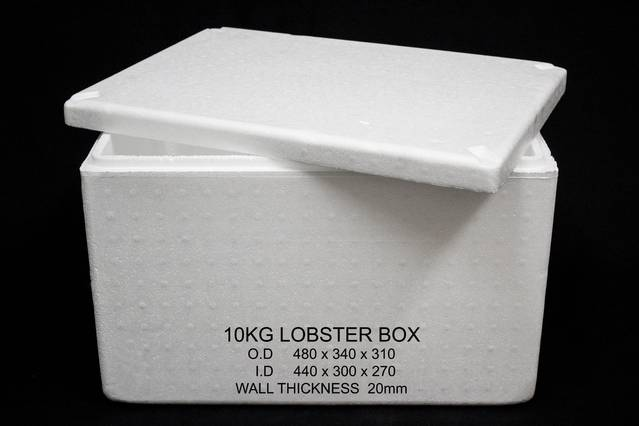Boxes: (64, 29, 566, 403)
